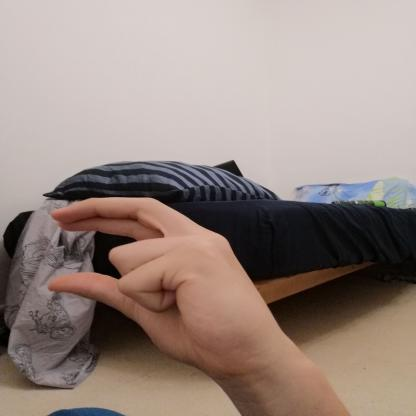DHELL: (30, 188, 272, 382)
